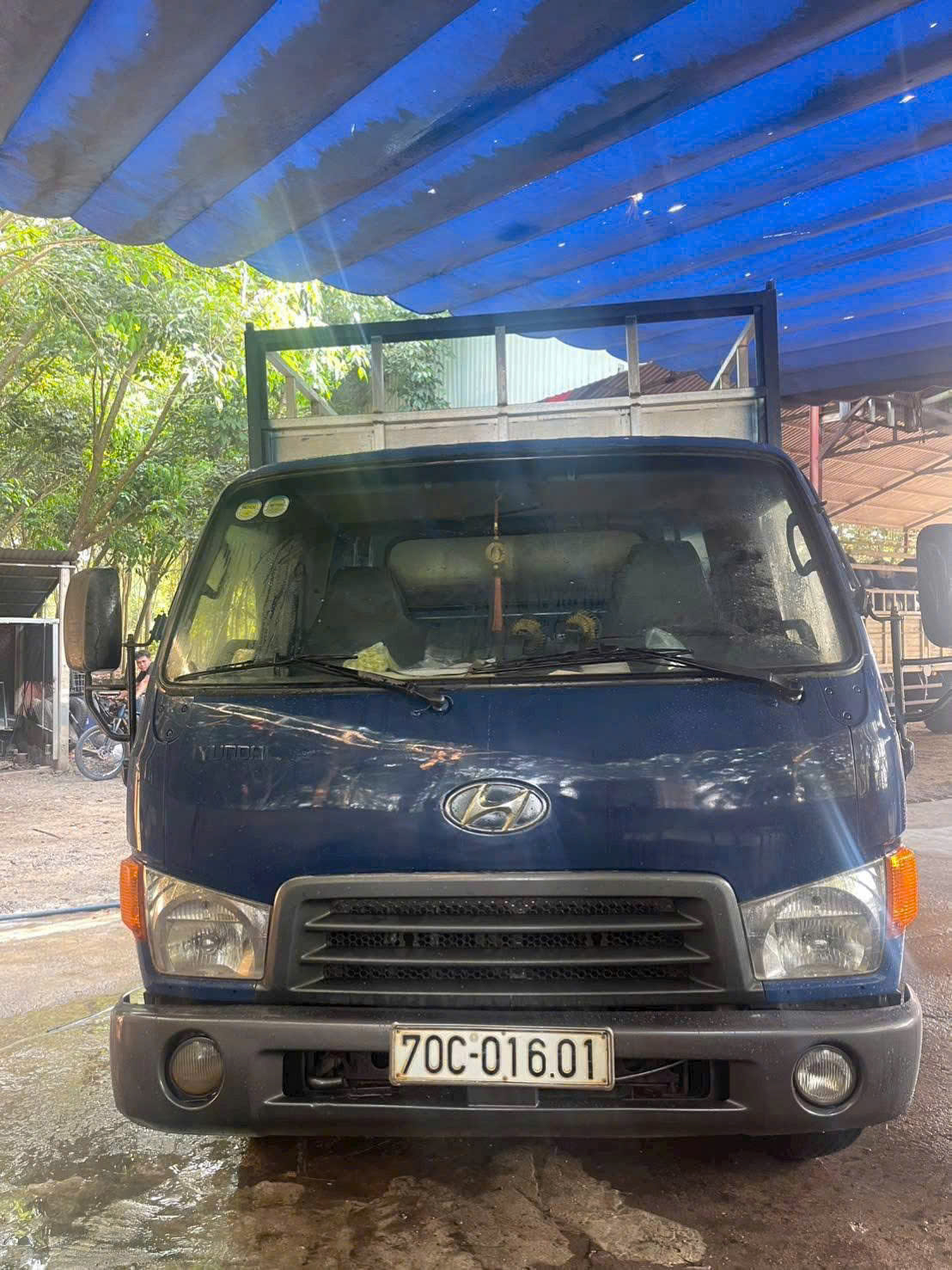Bien-so: (392, 1015, 618, 1086)
